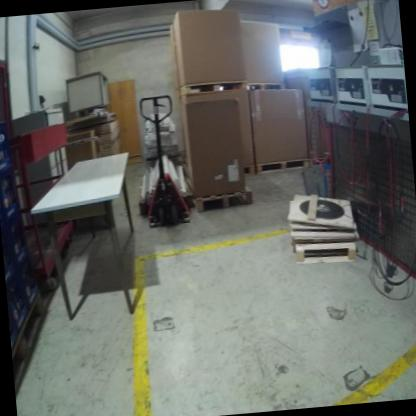pallet: (293, 237, 358, 269), (193, 186, 256, 215), (177, 77, 249, 100), (256, 157, 311, 176), (247, 79, 285, 94), (241, 162, 256, 178)
pallet_truck: (128, 89, 195, 229)
